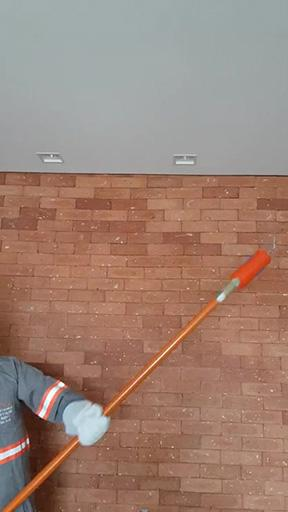Detector_Tensao_Contato: (225, 234, 282, 293)
Vara_Manobra: (1, 285, 231, 512)
